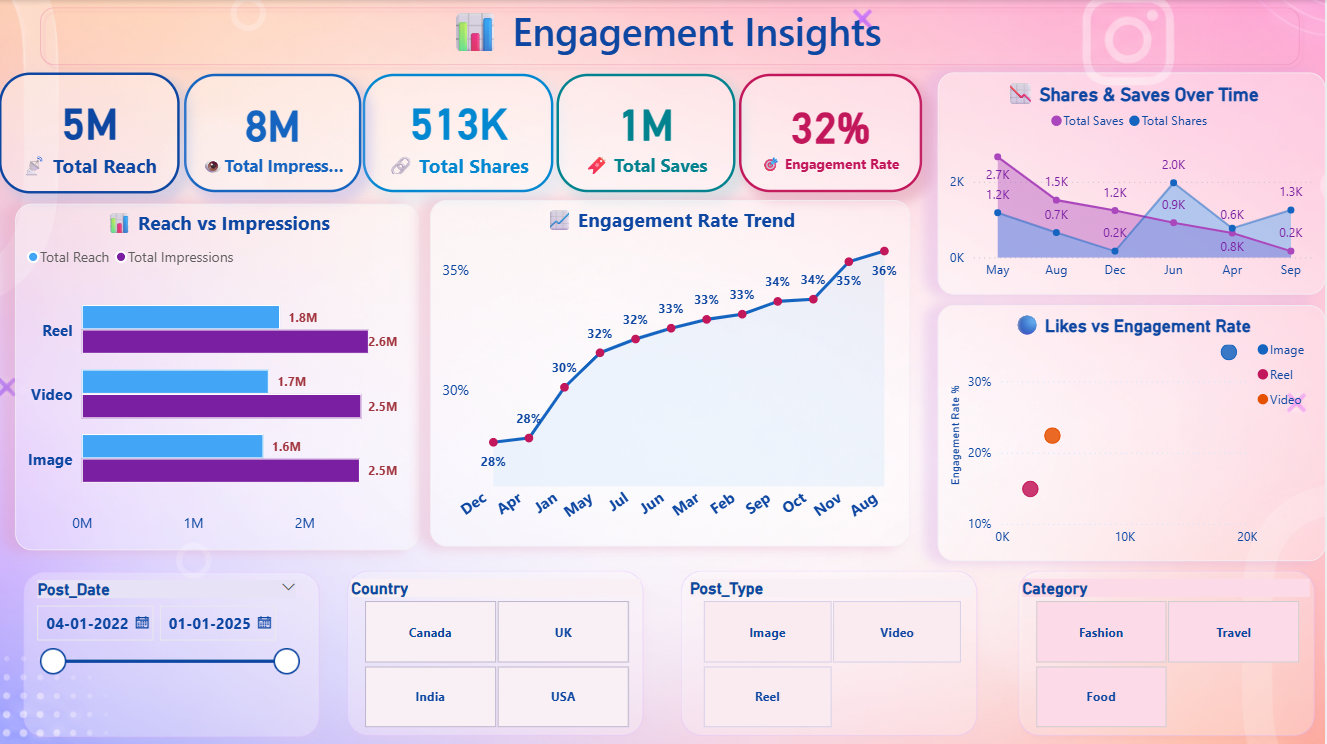

Layout of this report page (visuals, bound fields, positions):
{"tool":"powerbi","page":{"name":"Engagement Insights","canvas":[1280,720],"ordinal":2},"visuals":[{"type":"card","fields":{"Values":["Engagement.Total Shares"]},"box":[351.4,71.4,184.3,114.3],"z":0},{"type":"card","fields":{"Values":["Engagement.Total Impressions"]},"box":[178.6,71.4,171.4,114.3],"z":1000},{"type":"card","fields":{"Values":["Engagement.Total Saves"]},"box":[538.6,71.4,172.9,114.3],"z":2000},{"type":"group","id":"g1","title":"Group 1","box":[15,541.2,1265,178.8],"z":3000},{"type":"shape","box":[32.5,0,1230,70],"z":4000},{"type":"textbox","box":[70,0,1145.7,115.7],"z":5000},{"type":"slicer","fields":{"Values":["Posts.Post_Date"]},"box":[23.8,555,275,165],"z":6000},{"type":"slicer","fields":{"Values":["Users.Country"]},"box":[327.5,553.8,305,155],"z":7000},{"type":"slicer","fields":{"Values":["Posts.Post_Type"]},"box":[653.8,553.8,298.8,155],"z":8000},{"type":"slicer","fields":{"Values":["Hashtags.Category"]},"box":[975,553.8,303.8,155],"z":9000},{"type":"card","fields":{"Values":["Engagement.Total Reach"]},"box":[0,70,174.3,117.1],"z":10000},{"type":"shape","box":[15,542,304.1,177.6],"z":10000,"group":"g1"},{"type":"card","fields":{"Values":["Engagement.Engagement Rate"]},"box":[714.3,71.4,177.1,114.3],"z":11000},{"type":"shape","box":[327.3,541.2,304.1,177.6],"z":11000,"group":"g1"},{"type":"clusteredBarChart","title":"📊 Reach vs Impressions","fields":{"Category":["Posts.Post_Type"],"Y":["Engagement.Total Reach","Engagement.Total Impressions"]},"box":[15.7,197.1,390,334.3],"z":12000},{"type":"shape","box":[649.1,541.2,304.1,177.6],"z":12000,"group":"g1"},{"type":"areaChart","title":"📉 Shares & Saves Over Time","fields":{"Category":["DateTable.Month"],"Y":["Engagement.Total Saves","Engagement.Total Shares"]},"box":[905.7,70,374.3,214.3],"z":13000},{"type":"shape","box":[975.2,541.2,304.1,177.6],"z":13000,"group":"g1"},{"type":"scatterChart","title":"🔵 Likes vs Engagement Rate","fields":{"X":["Likes.Total Likes"],"Y":["Engagement.Engagement Rate"],"Series":["Posts.Post_Type"]},"box":[905.7,294.3,374.3,247.1],"z":14000},{"type":"lineChart","title":"📈 Engagement Rate Trend","fields":{"Category":["DateTable.Month"],"Y":["Engagement.Engagement Rate"]},"box":[415.7,192.9,462.9,334.3],"z":15000}]}

Visuals, with their boxes in screenshot pixels (x1, y1, x2, y2), scaled from the page's 1280x720 canvas onto the 1327x744 screenshot:
card - Engagement.Total Shares: left=364, top=74, right=555, bottom=192
card - Engagement.Total Impressions: left=185, top=74, right=363, bottom=192
card - Engagement.Total Saves: left=558, top=74, right=738, bottom=192
"Group 1" group: left=16, top=559, right=1326, bottom=743
shape: left=34, top=0, right=1309, bottom=72
textbox: left=73, top=0, right=1260, bottom=120
slicer - Posts.Post_Date: left=25, top=574, right=310, bottom=743
slicer - Users.Country: left=340, top=572, right=656, bottom=732
slicer - Posts.Post_Type: left=678, top=572, right=988, bottom=732
slicer - Hashtags.Category: left=1011, top=572, right=1326, bottom=732
card - Engagement.Total Reach: left=0, top=72, right=181, bottom=193
shape: left=16, top=560, right=331, bottom=743
card - Engagement.Engagement Rate: left=741, top=74, right=924, bottom=192
shape: left=339, top=559, right=655, bottom=743
"📊 Reach vs Impressions" clusteredBarChart: left=16, top=204, right=421, bottom=549
shape: left=673, top=559, right=988, bottom=743
"📉 Shares & Saves Over Time" areaChart: left=939, top=72, right=1326, bottom=294
shape: left=1011, top=559, right=1326, bottom=743
"🔵 Likes vs Engagement Rate" scatterChart: left=939, top=304, right=1326, bottom=559
"📈 Engagement Rate Trend" lineChart: left=431, top=199, right=911, bottom=545
